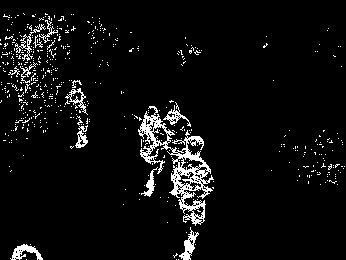person: (175, 135, 211, 259), (138, 104, 170, 199), (63, 77, 94, 149), (167, 97, 186, 147)
